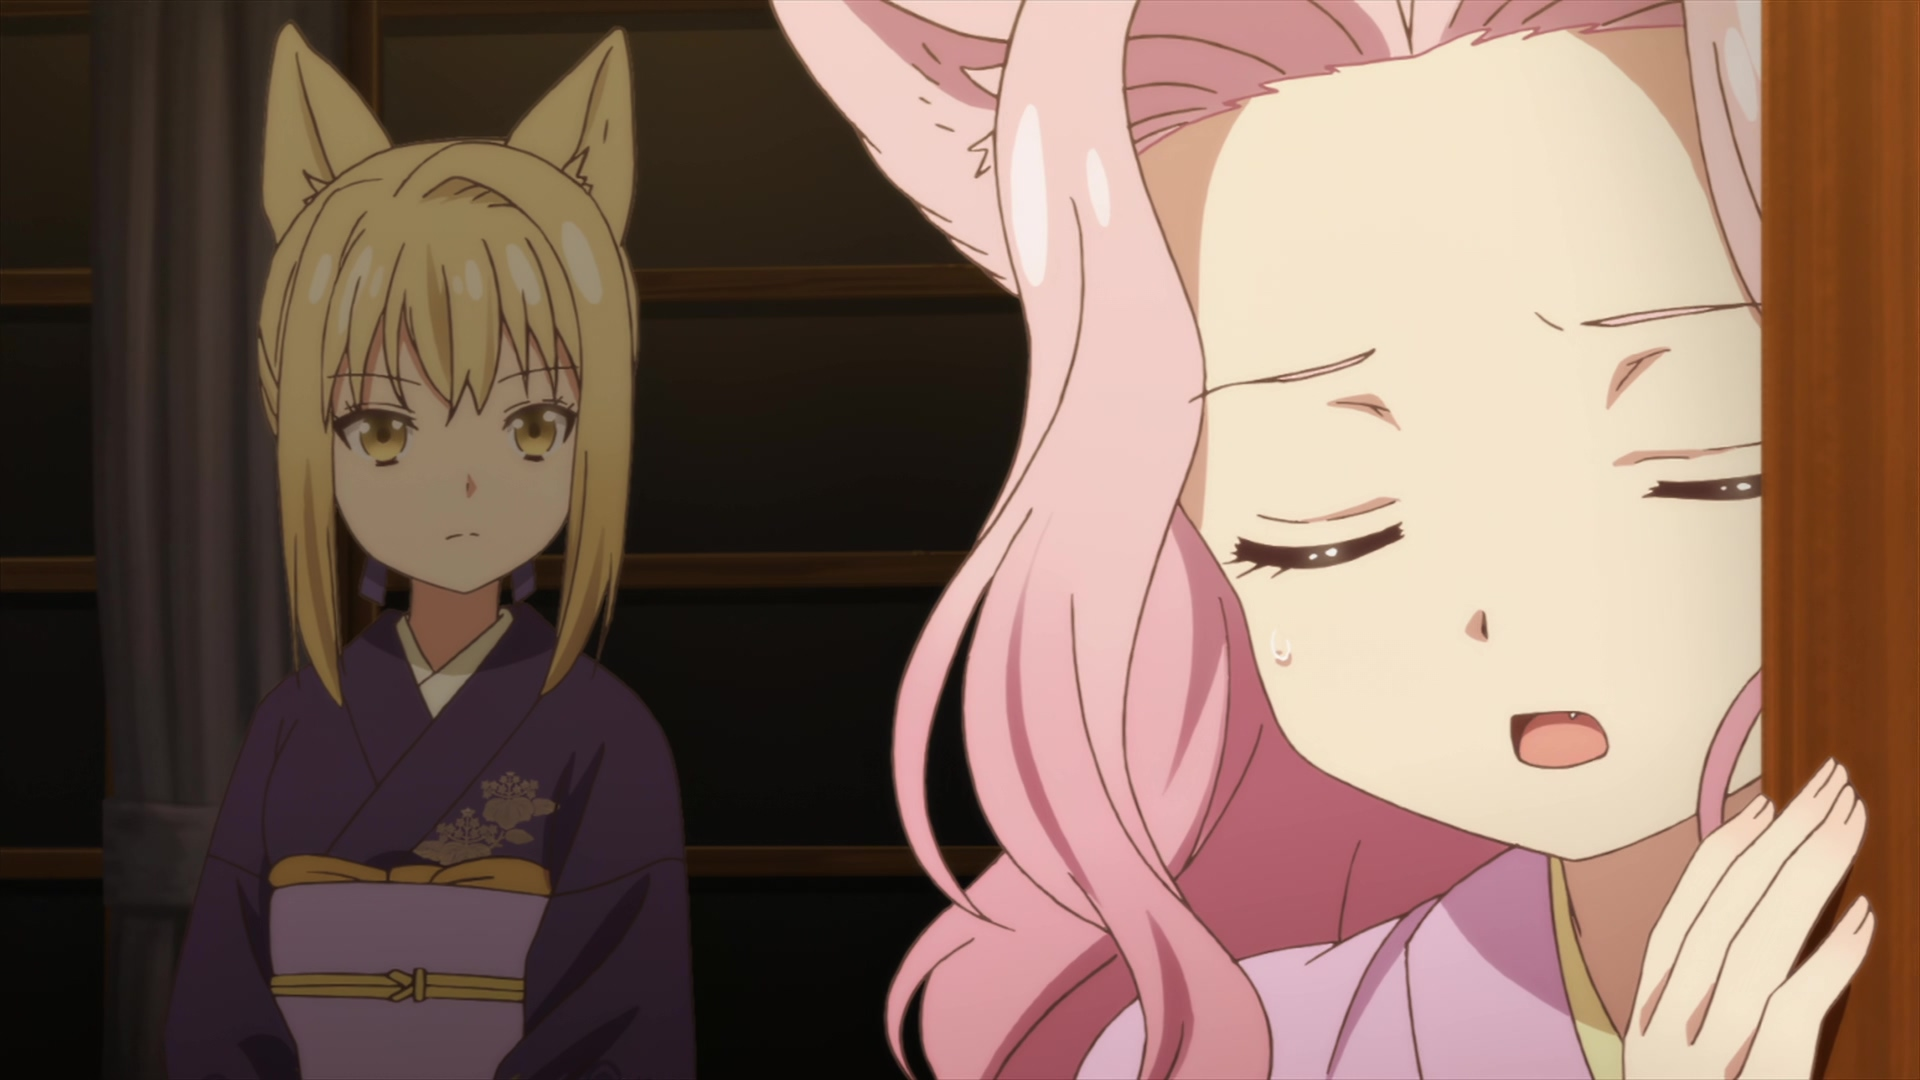桐: (156, 26, 680, 1080)
莲: (777, 1, 1873, 1080)
